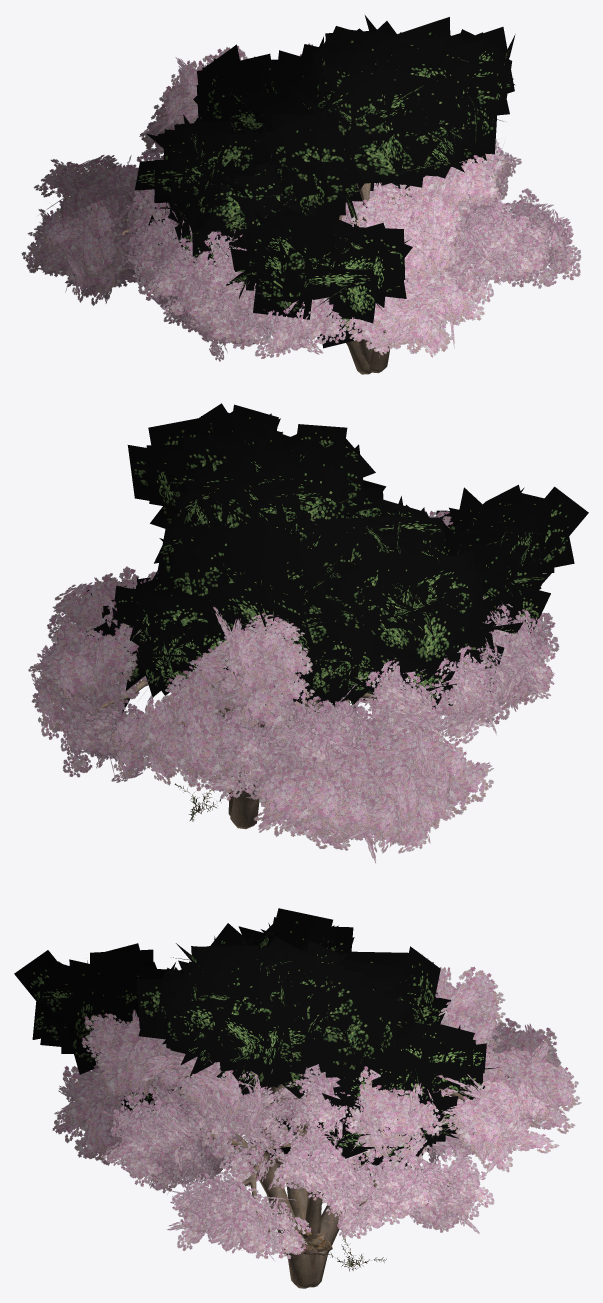
Rendered from nature.glb.
The picture shows the model from 3 angles, top to bottom: view 1: azimuth 30°, elevation 25°; view 2: azimuth 150°, elevation 25°; view 3: azimuth 270°, elevation 25°; orthographic projection. The views are drawn at different scales.
Visible parts, largest first — view 1: green_b, sakura_b, sakura_a, green_a, sakura_c; view 2: green_b, sakura_b, sakura_a, green_a, sakura_c; view 3: green_b, sakura_b, sakura_a, sakura_c, green_a, boulder.
Boxes of the visible parts, x1,y1,x2,y2 form: green_b: (135, 15, 515, 373); sakura_b: (21, 43, 505, 374); sakura_a: (98, 124, 581, 358); green_a: (148, 55, 407, 364); sakura_c: (143, 146, 527, 361); green_b: (127, 403, 588, 815); sakura_b: (31, 510, 493, 863); sakura_a: (112, 566, 559, 840); green_a: (86, 552, 523, 713); sakura_c: (28, 615, 405, 822); green_b: (14, 908, 450, 1288); sakura_b: (52, 967, 581, 1287); sakura_a: (101, 1050, 532, 1260); sakura_c: (149, 1064, 494, 1266); green_a: (120, 1022, 498, 1204); boulder: (279, 1224, 332, 1255).
Size of the model in its own units: 17.16 by 12.55 by 19.1.
Materials: 7 (7 with a texture image).
